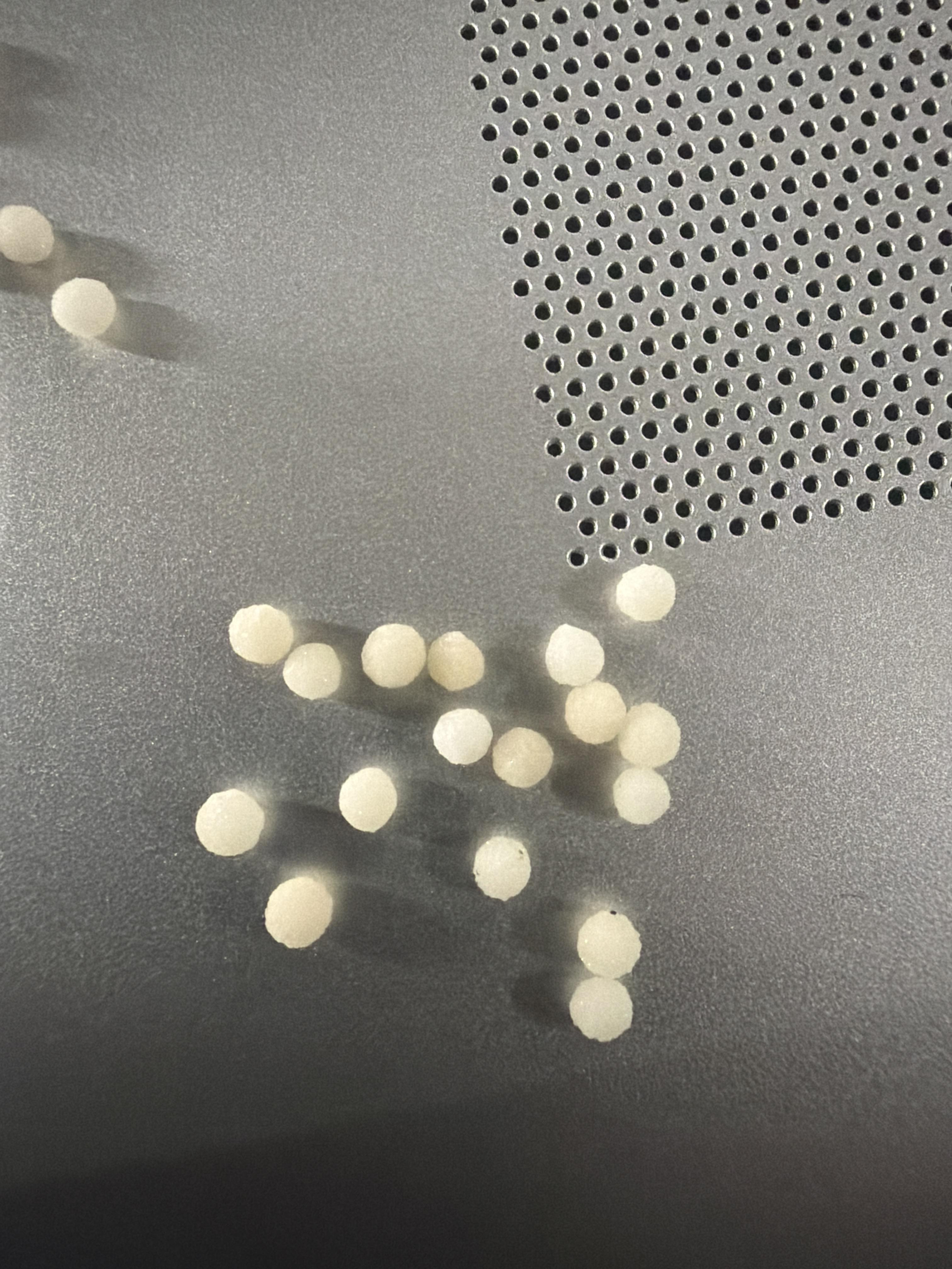pill: (264, 876, 333, 948), (195, 788, 265, 856), (577, 910, 641, 978), (361, 623, 426, 688), (618, 702, 680, 768), (570, 977, 632, 1042), (564, 680, 626, 744), (229, 604, 294, 665), (51, 278, 117, 338), (492, 727, 553, 788), (545, 624, 604, 687), (339, 768, 397, 832), (473, 836, 530, 900), (427, 631, 484, 691), (282, 643, 341, 700), (615, 565, 675, 621), (613, 767, 670, 825), (433, 708, 492, 764), (0, 205, 54, 264)
